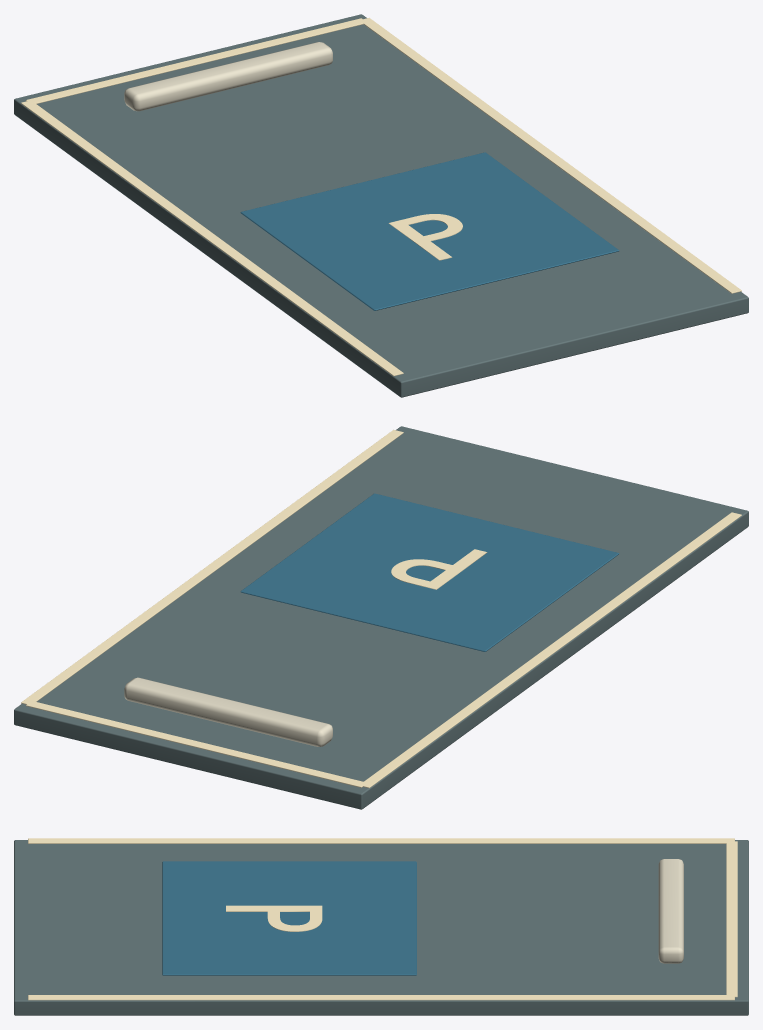
The model's file is parking-accessible.glb.
The picture shows the model from 3 angles, top to bottom: view 1: azimuth 30°, elevation 25°; view 2: azimuth 150°, elevation 25°; view 3: azimuth 270°, elevation 25°; orthographic projection. The views are drawn at different scales.
Parts seen in each view (by area): view 1: Parking surface, Accessible bay, Wheel stop, Bay stripe, Bay stripe.001, Stop line, P; view 2: Parking surface, Accessible bay, Wheel stop, Bay stripe, Bay stripe.001, Stop line, P; view 3: Parking surface, Accessible bay, Bay stripe.001, Bay stripe, Wheel stop, Stop line, P.
Boxes of the visible parts, bbox=[...] form: Parking surface: bbox=[14, 14, 748, 397]; Accessible bay: bbox=[240, 152, 619, 310]; Wheel stop: bbox=[124, 42, 332, 111]; Bay stripe: bbox=[21, 100, 403, 376]; Bay stripe.001: bbox=[361, 17, 741, 293]; Stop line: bbox=[26, 18, 365, 103]; P: bbox=[388, 214, 462, 260]; Parking surface: bbox=[14, 426, 748, 809]; Accessible bay: bbox=[240, 493, 619, 651]; Wheel stop: bbox=[124, 677, 332, 746]; Bay stripe: bbox=[360, 512, 741, 788]; Bay stripe.001: bbox=[21, 429, 403, 704]; Stop line: bbox=[26, 701, 363, 787]; P: bbox=[391, 549, 487, 589]; Parking surface: bbox=[14, 840, 748, 1015]; Accessible bay: bbox=[162, 861, 416, 975]; Bay stripe.001: bbox=[28, 995, 734, 1000]; Bay stripe: bbox=[28, 838, 734, 843]; Wheel stop: bbox=[658, 859, 683, 963]; Stop line: bbox=[726, 841, 737, 997]; P: bbox=[226, 905, 322, 931].
Bounding box in the file's own units: 2.7 × 0.254 × 5.2.
